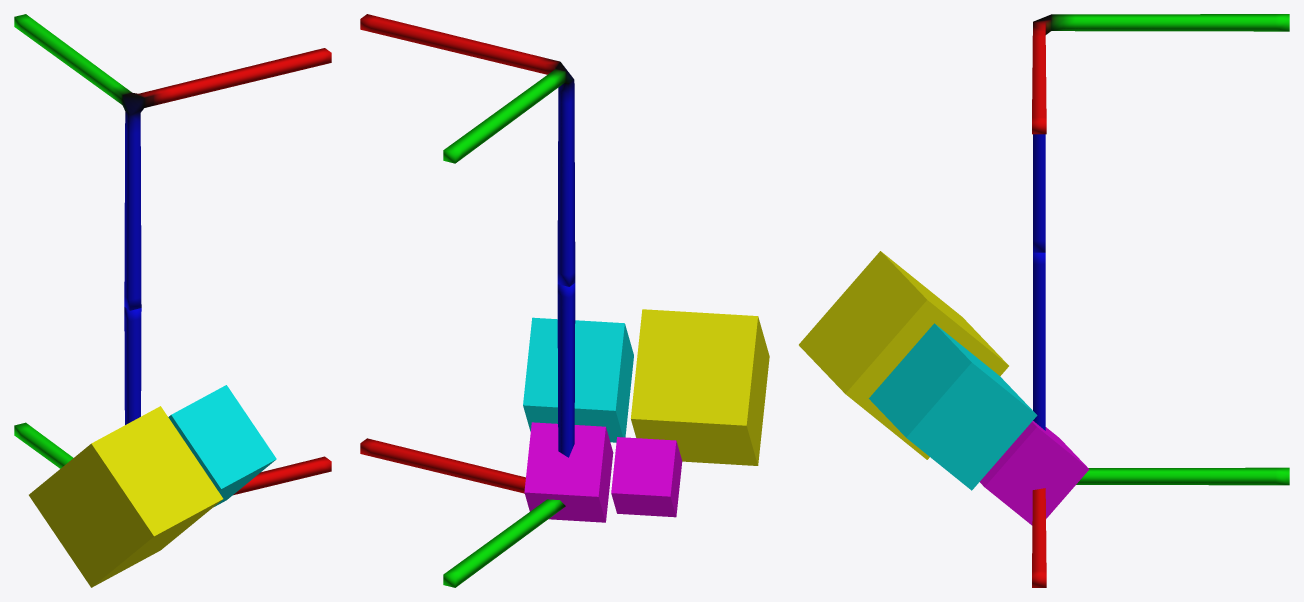
File: hierarchy2.gltf
The picture shows the model from 3 angles, left to right: view 1: azimuth 30°, elevation 25°; view 2: azimuth 150°, elevation 25°; view 3: azimuth 270°, elevation 25°; orthographic projection. The views are drawn at different scales.
Parts seen in each view (by area): view 1: Cube.002, Plane.001, Cube.001, Plane; view 2: Cube.002, Plane.001, Cube.001, Plane, Cube, Cube.003; view 3: Cube.001, Cube.002, Plane.001, Plane, Cube.
Part boxes in pixels (x1,y1,x2,y2): Cube.002: [29, 406, 223, 587]; Plane.001: [14, 14, 331, 310]; Cube.001: [168, 385, 276, 507]; Plane: [14, 307, 331, 495]; Cube.002: [630, 309, 769, 465]; Plane.001: [360, 14, 575, 286]; Cube.001: [523, 317, 633, 442]; Plane: [360, 283, 575, 587]; Cube: [524, 422, 613, 522]; Cube.003: [611, 437, 682, 517]; Cube.001: [869, 323, 1037, 490]; Cube.002: [799, 251, 1008, 459]; Plane.001: [1032, 14, 1289, 252]; Plane: [1032, 252, 1289, 587]; Cube: [980, 421, 1089, 525].
Size of the model in its own units: 6.85 by 8.71 by 7.85.
